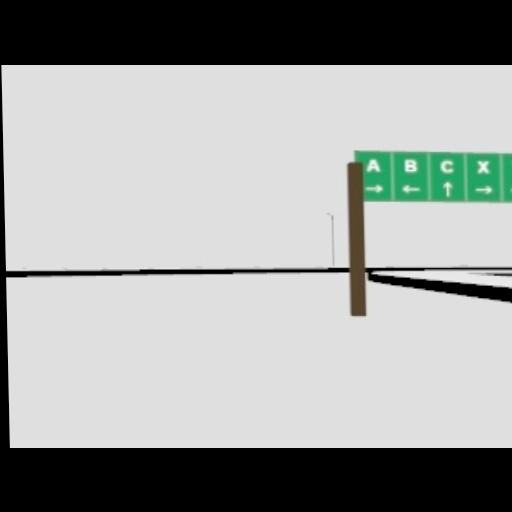A: (366, 158, 379, 170)
B: (404, 158, 418, 170)
C: (440, 158, 453, 172)
Left: (401, 183, 420, 191), (510, 183, 512, 193)
Right: (365, 183, 383, 191), (474, 185, 492, 193)
Straight: (442, 180, 452, 196)
X: (477, 158, 488, 172)
Y: (511, 159, 512, 173)
